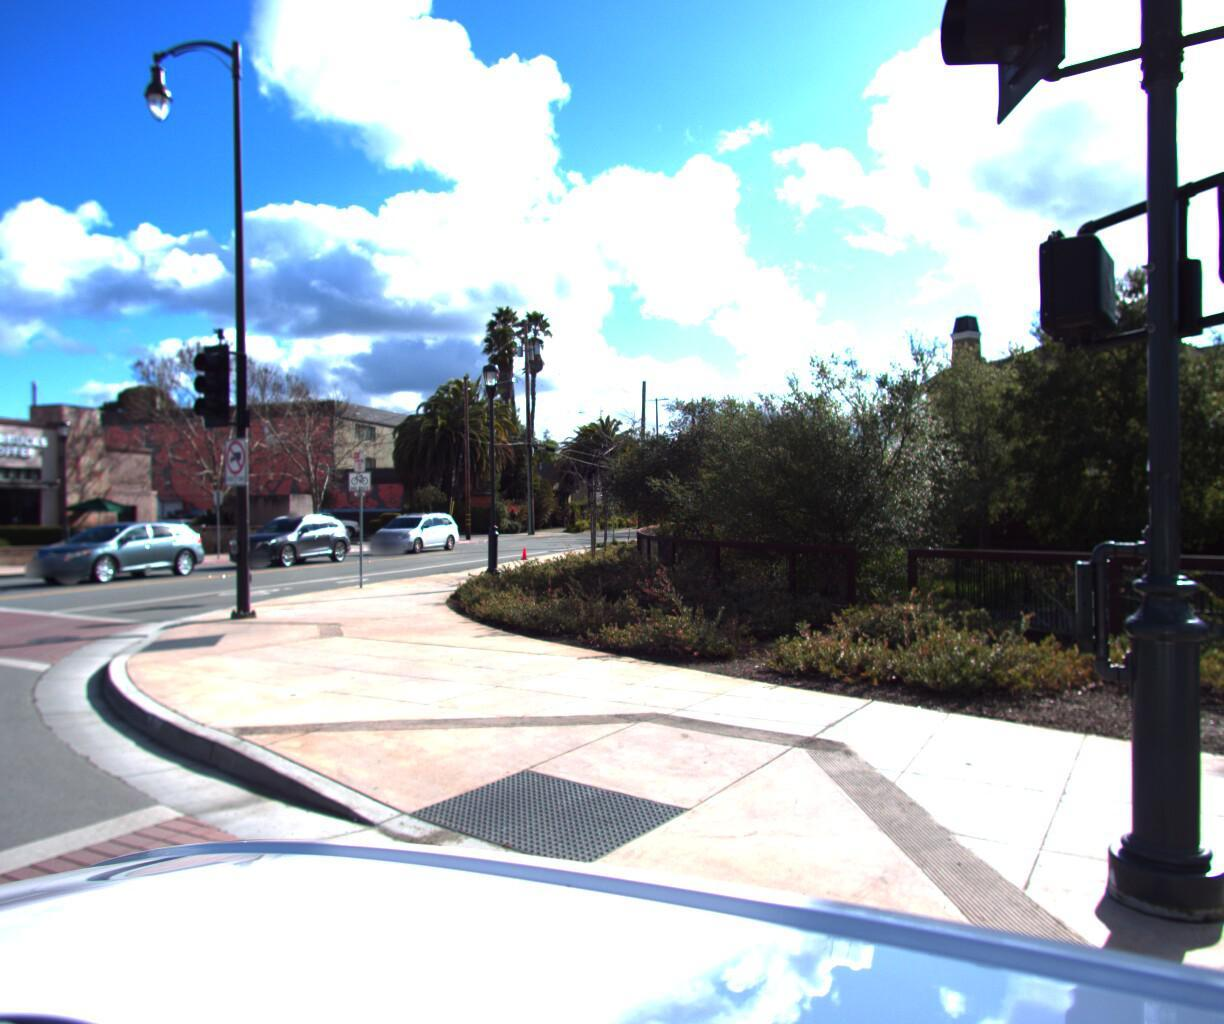car: (9, 522, 213, 588), (213, 511, 357, 569), (363, 508, 464, 554), (281, 511, 368, 541)
